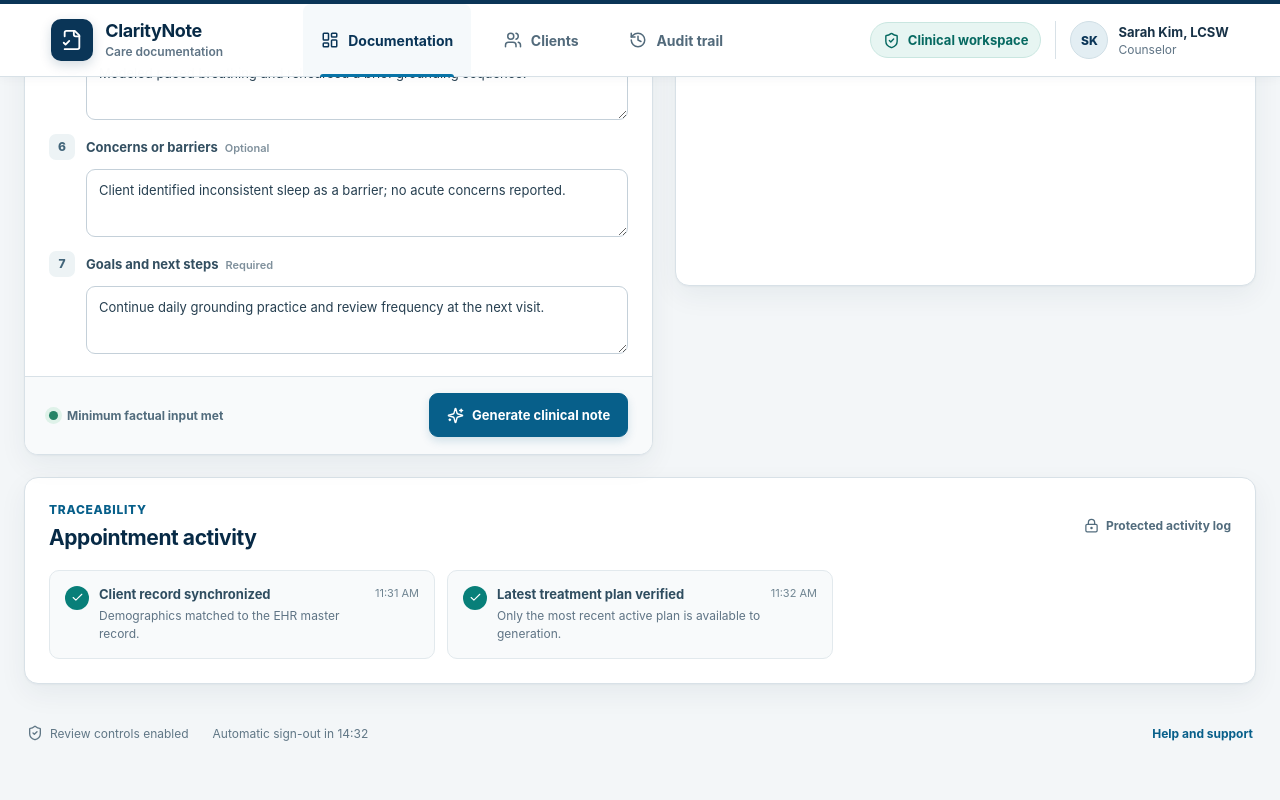
Test: clinical documentation workspace › requires clinician review before approval and copy
This screenshot has width=1280, height=800.
(page scrolled)
Check: the button "Approve note" is not shown
Click the button "Generate clinical note" at (529, 415), box [429,393,628,437]
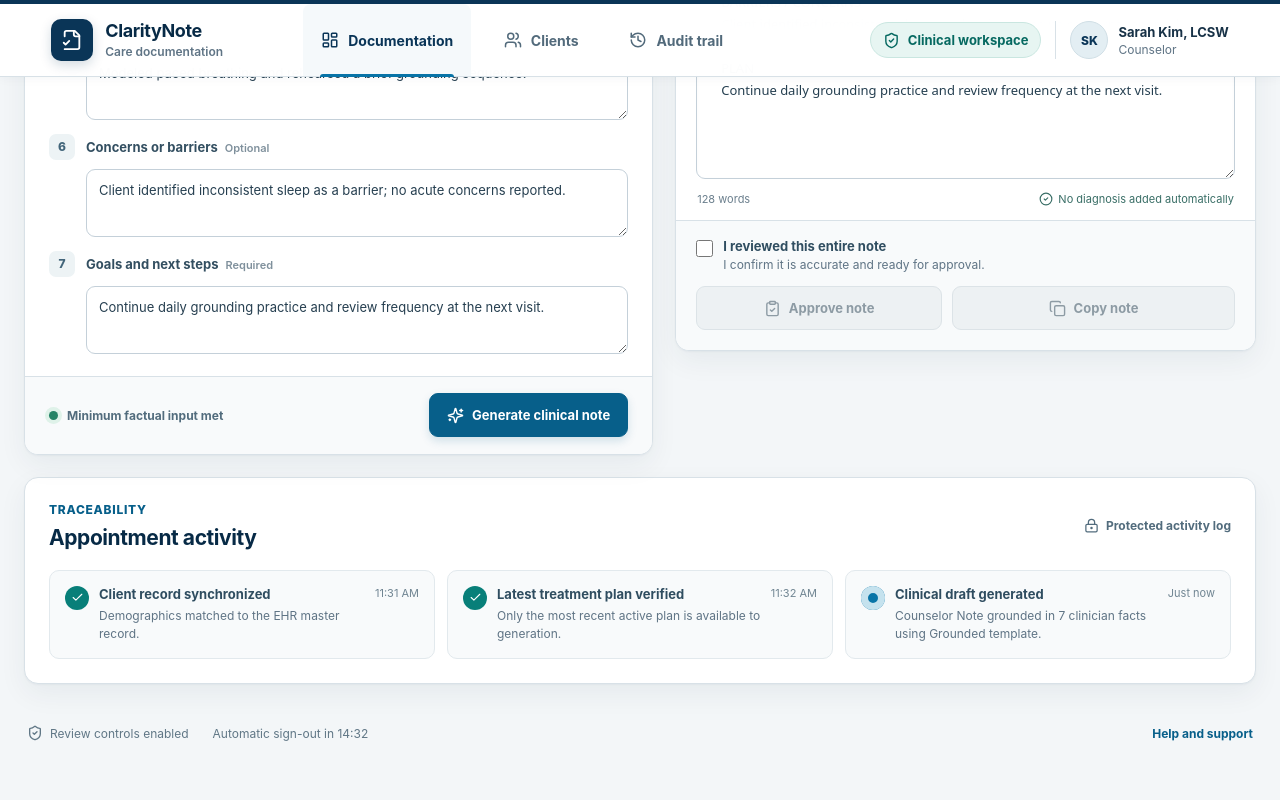
Check: the button "Approve note" is disabled, box [696,286,942,330]
Check: the button "Copy note" is disabled, box [952,286,1235,330]
Click the checkbox labelled "I reviewed this entire note" at (705, 248), box [696,240,713,257]
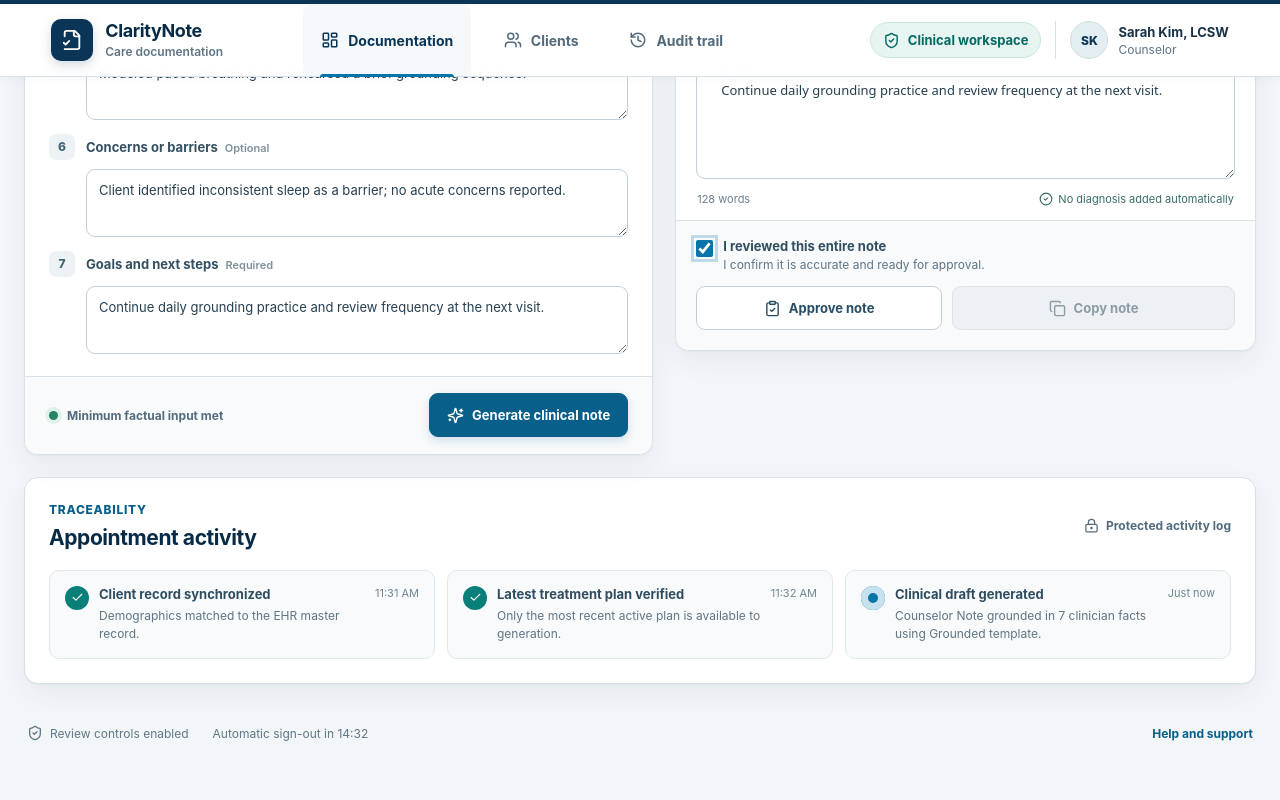
Check: the button "Approve note" is enabled
Click the button "Approve note" at (819, 308), box [696,286,942,330]
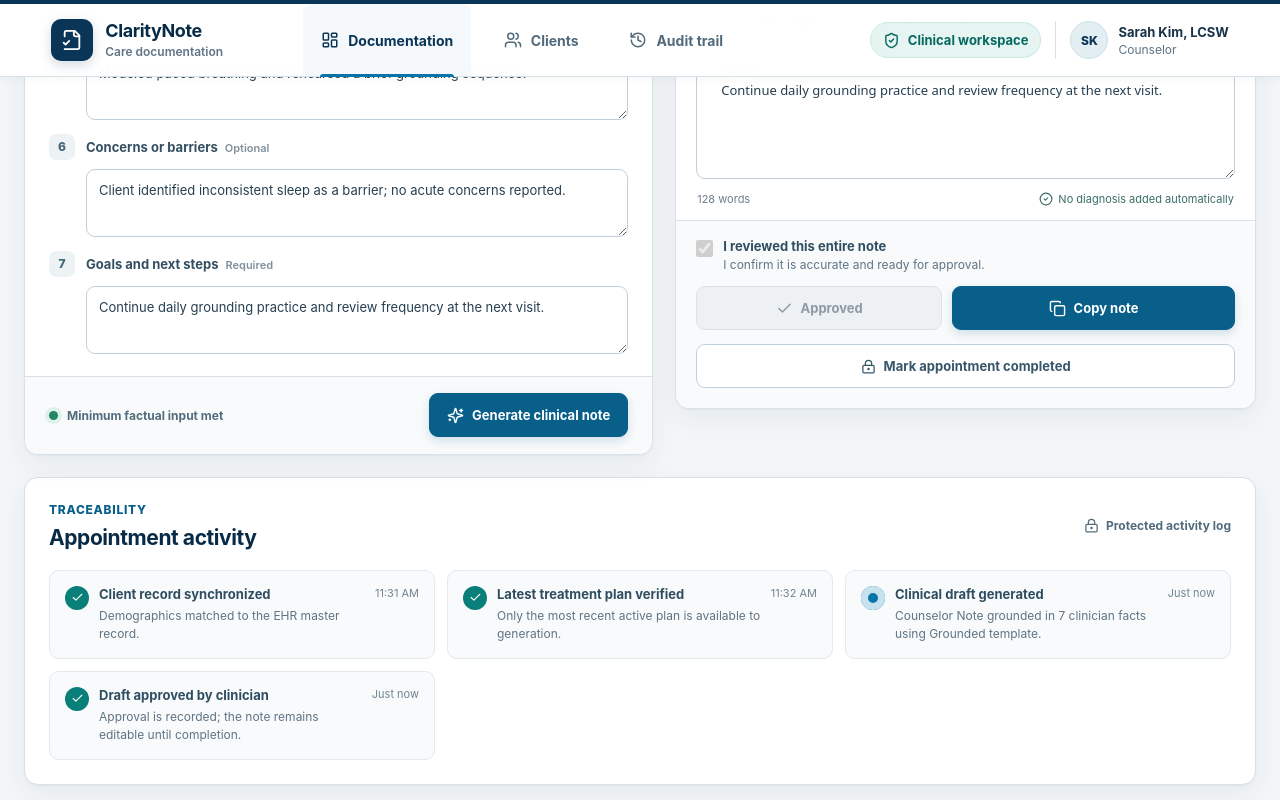
Check: the button "Approved" is disabled, box [696,286,942,330]
Check: the button "Copy note" is enabled, box [952,286,1235,330]
